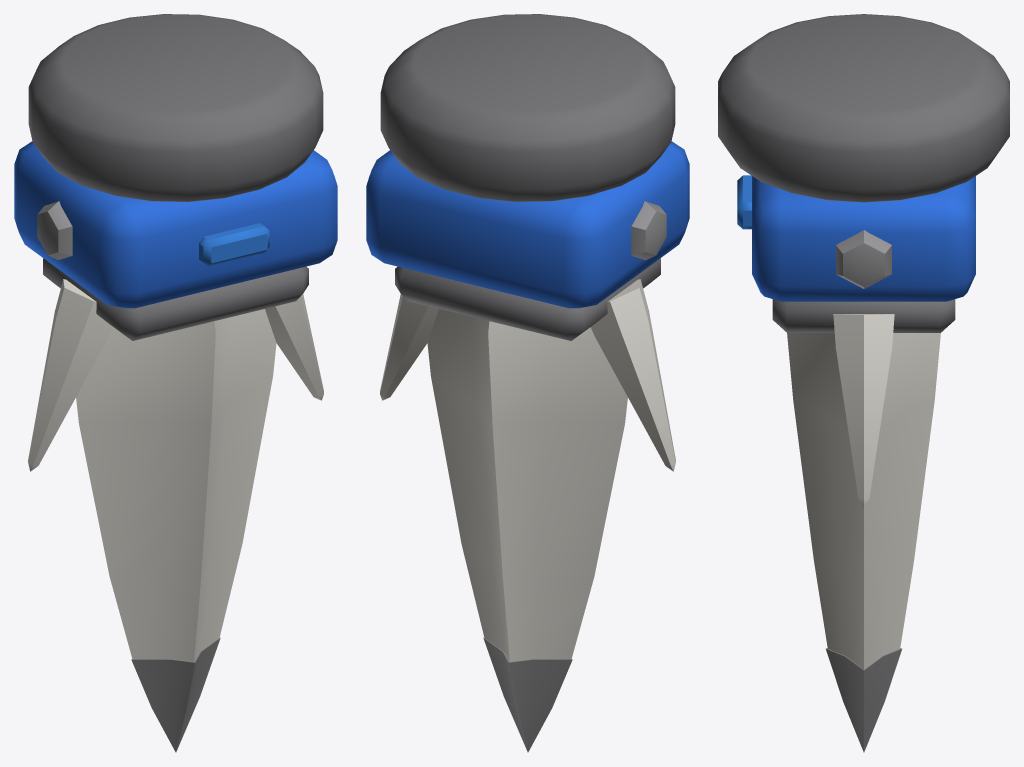
File: Kit_Foot_ProSpike.glb
3 views of the same model, side by side, from view 1: azimuth 30°, elevation 25°; view 2: azimuth 150°, elevation 25°; view 3: azimuth 270°, elevation 25° (orthographic).
Parts seen in each view (by area): view 1: Kit_Foot_ProSpike; view 2: Kit_Foot_ProSpike; view 3: Kit_Foot_ProSpike.
Boxes of the visible parts, <box> form: Kit_Foot_ProSpike: <box>14,14,337,752</box>; Kit_Foot_ProSpike: <box>366,14,689,752</box>; Kit_Foot_ProSpike: <box>718,14,1009,752</box>.
Size of the model in its own units: 0.1158 by 0.258 by 0.099.
